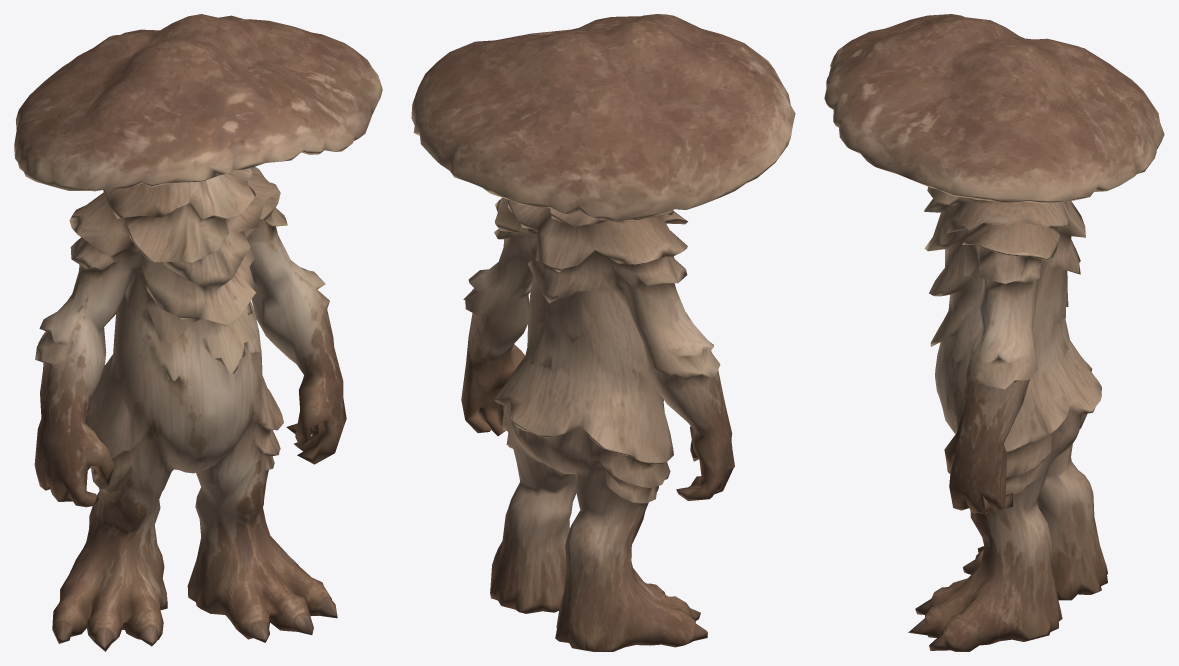
The model's file is CHR_PLAYER_01_05_06_v001_RAW.glb.
3 views of the same model, side by side, from view 1: azimuth 30°, elevation 25°; view 2: azimuth 150°, elevation 25°; view 3: azimuth 270°, elevation 25° (orthographic). The views are drawn at different scales.
Visible parts, largest first — view 1: tripo_node_cfeb900c-fe46-4f7a-89bc-3a2e84268dc1; view 2: tripo_node_cfeb900c-fe46-4f7a-89bc-3a2e84268dc1; view 3: tripo_node_cfeb900c-fe46-4f7a-89bc-3a2e84268dc1.
Part boxes in pixels (box(x1,y1,x2,y2)): tripo_node_cfeb900c-fe46-4f7a-89bc-3a2e84268dc1: box(14, 14, 382, 651); tripo_node_cfeb900c-fe46-4f7a-89bc-3a2e84268dc1: box(411, 14, 795, 651); tripo_node_cfeb900c-fe46-4f7a-89bc-3a2e84268dc1: box(824, 14, 1164, 651).
Size of the model in its own units: 0.5992 by 0.9806 by 0.5297.
Materials: 1 (1 with a texture image).
